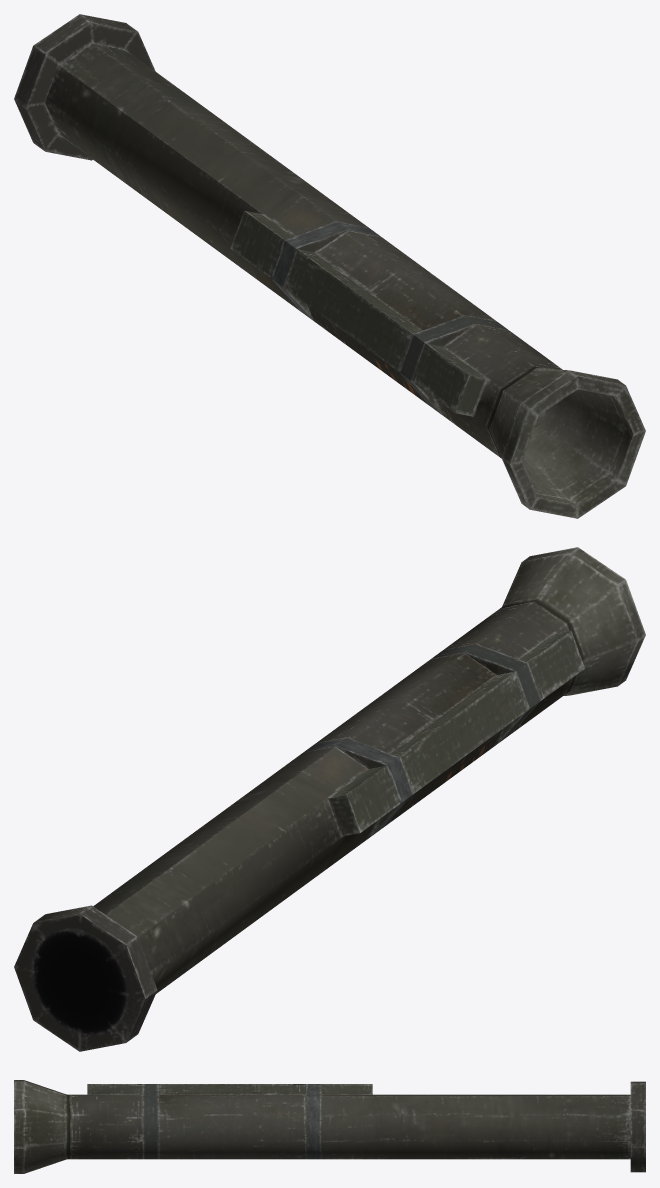
The model's file is Props_Rocketlauncher_1.FBX.
3 views of the same model, one above another, from view 1: azimuth 30°, elevation 25°; view 2: azimuth 150°, elevation 25°; view 3: azimuth 270°, elevation 25° (orthographic). The views are drawn at different scales.
Visible parts, largest first — view 1: Rocketlauncher_1; view 2: Rocketlauncher_1; view 3: Rocketlauncher_1.
Boxes of the visible parts, bbox=[...] form: Rocketlauncher_1: bbox=[14, 14, 645, 518]; Rocketlauncher_1: bbox=[14, 547, 645, 1051]; Rocketlauncher_1: bbox=[14, 1080, 645, 1173].
Bounding box in the file's own units: 37.04 × 37.04 × 235.
1 material, 1 textured.
